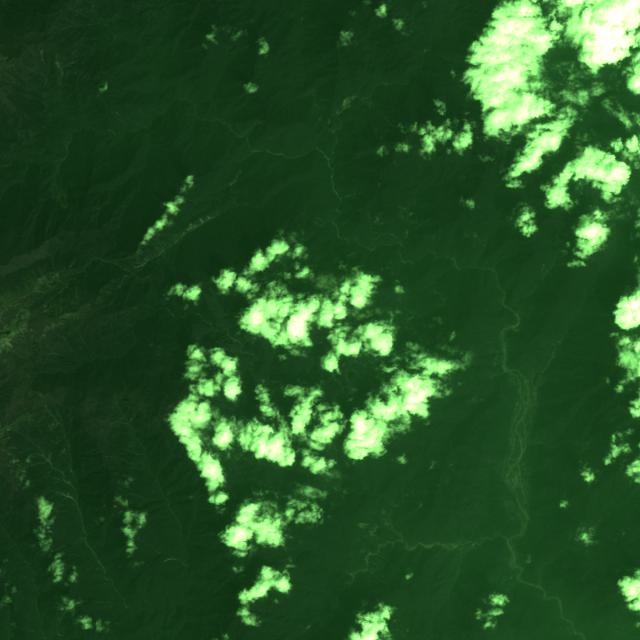landslides: (52, 158, 69, 212), (19, 460, 48, 470), (201, 453, 221, 466), (55, 490, 76, 502), (239, 152, 255, 166), (39, 274, 53, 290), (379, 301, 392, 318), (161, 556, 183, 564), (54, 553, 79, 560), (183, 436, 200, 445), (194, 445, 215, 452), (473, 235, 485, 247), (281, 255, 294, 266), (361, 96, 372, 109), (192, 377, 215, 383), (531, 268, 539, 285), (111, 416, 126, 425), (28, 274, 36, 290), (56, 60, 63, 78), (56, 273, 65, 287), (27, 452, 43, 459), (0, 448, 14, 456), (340, 194, 353, 202), (167, 272, 175, 285), (70, 257, 80, 267)
